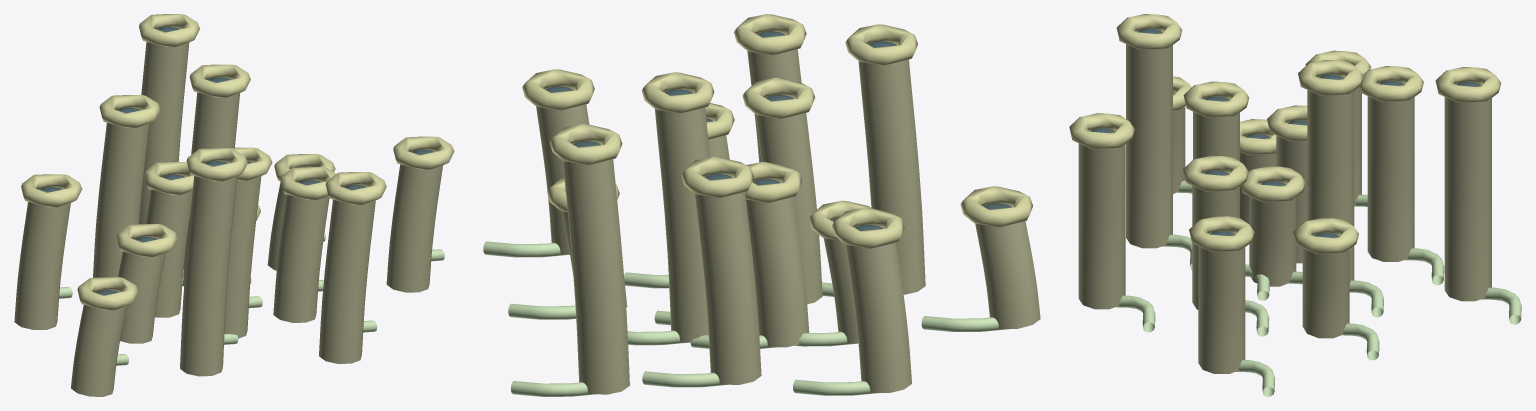
Rendered from bio_thermal_colony_21_far.glb.
3 views of the same model, side by side, from view 1: azimuth 30°, elevation 25°; view 2: azimuth 150°, elevation 25°; view 3: azimuth 270°, elevation 25° (orthographic). The views are drawn at different scales.
Parts seen in each view (by area): view 1: Chimney biofilm.007, Chimney biofilm.010, Chimney biofilm.006, Chimney biofilm.013, Chimney biofilm.005, Chimney biofilm.009, Chimney biofilm.011, Chimney biofilm.012, Chimney biofilm.002, Chimney biofilm.001, Chimney biofilm.004, Chimney biofilm.003 (+14 smaller); view 2: Chimney biofilm.011, Chimney biofilm.007, Chimney biofilm.006, Chimney biofilm.003, Chimney biofilm.009, Chimney biofilm.001, Chimney biofilm.012, Chimney biofilm.002, Chimney biofilm.013, Open vent rim.006, Open vent rim.013, Open vent rim.010 (+21 smaller); view 3: Chimney biofilm.011, Chimney biofilm.007, Chimney biofilm.010, Chimney biofilm.006, Chimney biofilm.003, Chimney biofilm.013, Chimney biofilm.008, Chimney biofilm, Chimney biofilm.002, Open vent rim.010, Open vent rim.002, Open vent rim.008 (+24 smaller).
Part boxes in pixels (x1=…): Chimney biofilm.007: x1=180, y1=176, x2=236, y2=376; Chimney biofilm.010: x1=319, y1=199, x2=375, y2=363; Chimney biofilm.006: x1=93, y1=123, x2=149, y2=277; Chimney biofilm.013: x1=386, y1=164, x2=442, y2=292; Chimney biofilm.005: x1=273, y1=194, x2=329, y2=322; Chimney biofilm.009: x1=14, y1=202, x2=70, y2=329; Chimney biofilm.011: x1=139, y1=42, x2=189, y2=224; Chimney biofilm.012: x1=71, y1=305, x2=126, y2=396; Chimney biofilm.002: x1=224, y1=176, x2=261, y2=338; Chimney biofilm.001: x1=146, y1=189, x2=192, y2=317; Chimney biofilm.004: x1=118, y1=251, x2=165, y2=343; Chimney biofilm.003: x1=183, y1=92, x2=239, y2=285; Chimney biofilm.011: x1=562, y1=159, x2=629, y2=394; Chimney biofilm.007: x1=858, y1=44, x2=925, y2=294; Chimney biofilm.006: x1=694, y1=192, x2=761, y2=384; Chimney biofilm.003: x1=655, y1=107, x2=709, y2=342; Chimney biofilm.009: x1=845, y1=242, x2=911, y2=392; Chimney biofilm.001: x1=746, y1=181, x2=809, y2=347; Chimney biofilm.012: x1=975, y1=221, x2=1040, y2=328; Chimney biofilm.002: x1=756, y1=97, x2=822, y2=304; Chimney biofilm.013: x1=536, y1=89, x2=589, y2=254; Open vent rim.006: x1=681, y1=156, x2=753, y2=197; Open vent rim.013: x1=522, y1=69, x2=594, y2=110; Open vent rim.010: x1=734, y1=14, x2=806, y2=55; Chimney biofilm.011: x1=1444, y1=85, x2=1491, y2=301; Chimney biofilm.007: x1=1126, y1=32, x2=1172, y2=248; Chimney biofilm.010: x1=1078, y1=131, x2=1125, y2=309; Chimney biofilm.006: x1=1367, y1=84, x2=1414, y2=261; Chimney biofilm.003: x1=1307, y1=77, x2=1354, y2=283; Chimney biofilm.013: x1=1198, y1=234, x2=1245, y2=373; Chimney biofilm.008: x1=1302, y1=236, x2=1349, y2=338; Chimney biofilm: x1=1249, y1=184, x2=1296, y2=286; Chimney biofilm.002: x1=1193, y1=99, x2=1239, y2=217; Open vent rim.010: x1=1069, y1=113, x2=1134, y2=149; Open vent rim.002: x1=1183, y1=81, x2=1249, y2=117; Open vent rim.008: x1=1293, y1=218, x2=1358, y2=254.
Size of the model in its own units: 2.19 by 1.07 by 1.92.
